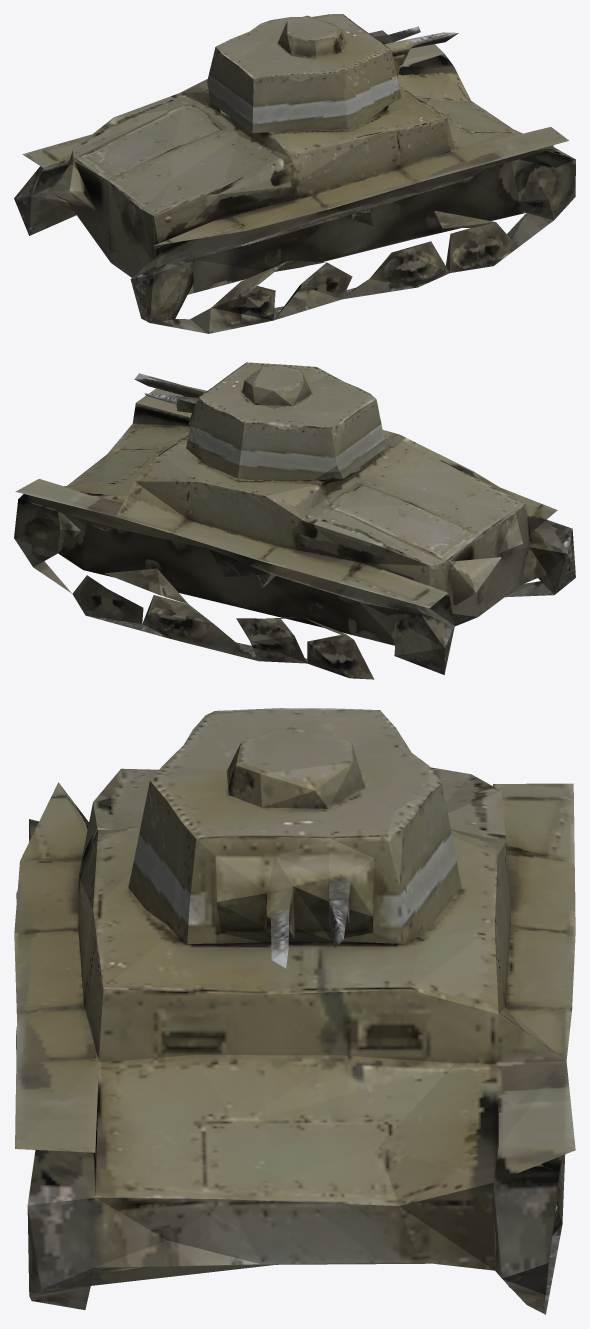
Rendered from both.obj.
3 renders of one model, top to bottom at view 1: azimuth 30°, elevation 25°; view 2: azimuth 150°, elevation 25°; view 3: azimuth 270°, elevation 25°, orthographic. The views are drawn at different scales.
Parts seen in each view (by area): view 1: turret.obj; view 2: turret.obj; view 3: turret.obj.
Part boxes in pixels (x1,y1,x2,y2): turret.obj: (14,14,575,333); turret.obj: (14,362,575,679); turret.obj: (14,708,575,1314).
Size of the model in its own units: 0.9874 by 0.4797 by 0.5526.
Materials: 1 (1 with a texture image).
